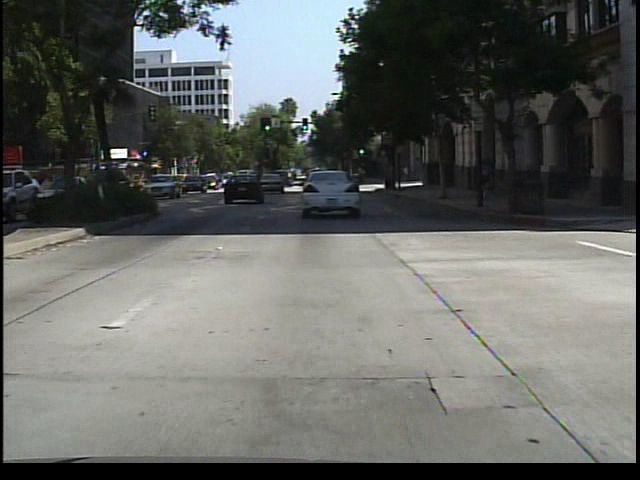person: (478, 156, 497, 203)
